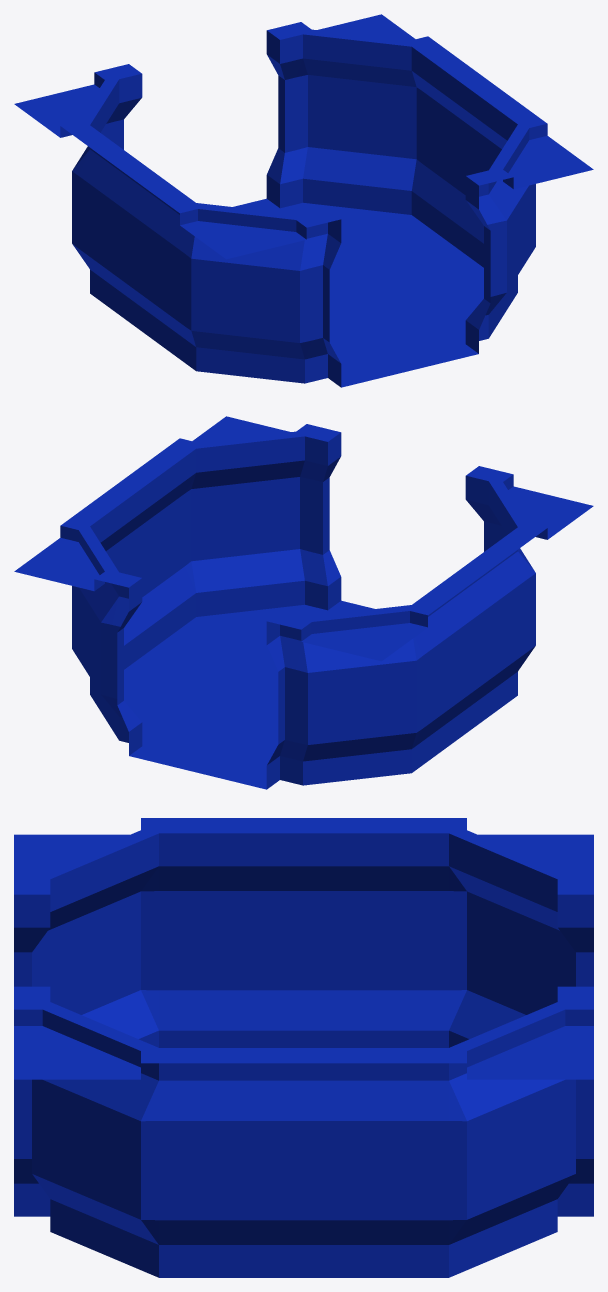
The model's file is 1x1_Corridor.FBX.
3 renders of one model, top to bottom at view 1: azimuth 30°, elevation 25°; view 2: azimuth 150°, elevation 25°; view 3: azimuth 270°, elevation 25°, orthographic. The views are drawn at different scales.
Parts seen in each view (by area): view 1: 1x1_Corridor; view 2: 1x1_Corridor; view 3: 1x1_Corridor.
Boxes of the visible parts, <box> form: 1x1_Corridor: <box>14,14,593,387</box>; 1x1_Corridor: <box>14,416,593,789</box>; 1x1_Corridor: <box>14,818,593,1277</box>.
Size of what is drawn, in the model's own units: 800 by 350 by 800.
